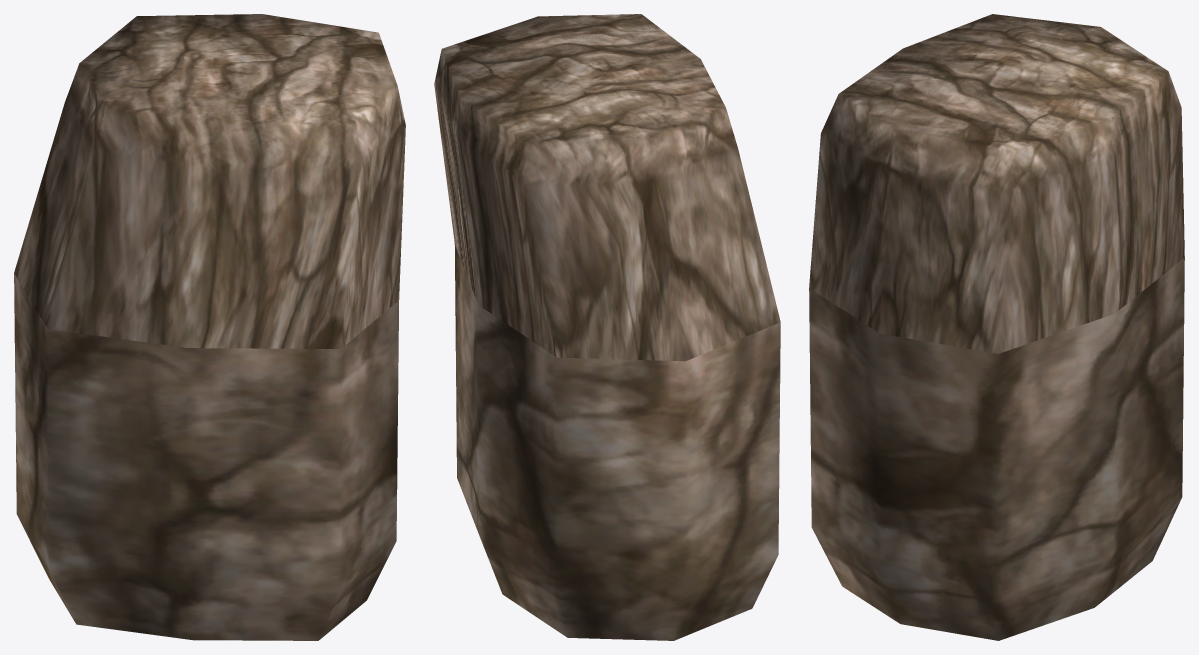
Rendered from OVERHILL_A_01_LINE345.fbx.
3 views of the same model, side by side, from view 1: azimuth 30°, elevation 25°; view 2: azimuth 150°, elevation 25°; view 3: azimuth 270°, elevation 25° (orthographic). The views are drawn at different scales.
Visible parts, largest first — view 1: OVERHILL_A_01_LINE345; view 2: OVERHILL_A_01_LINE345; view 3: OVERHILL_A_01_LINE345.
Part boxes in pixels (box(x1,y1,x2,y2)): OVERHILL_A_01_LINE345: box(14, 14, 405, 640); OVERHILL_A_01_LINE345: box(434, 14, 780, 640); OVERHILL_A_01_LINE345: box(809, 14, 1184, 640).
Size of the model in its own units: 15327 by 21861 by 14367.
Materials: 1 (1 with a texture image).
